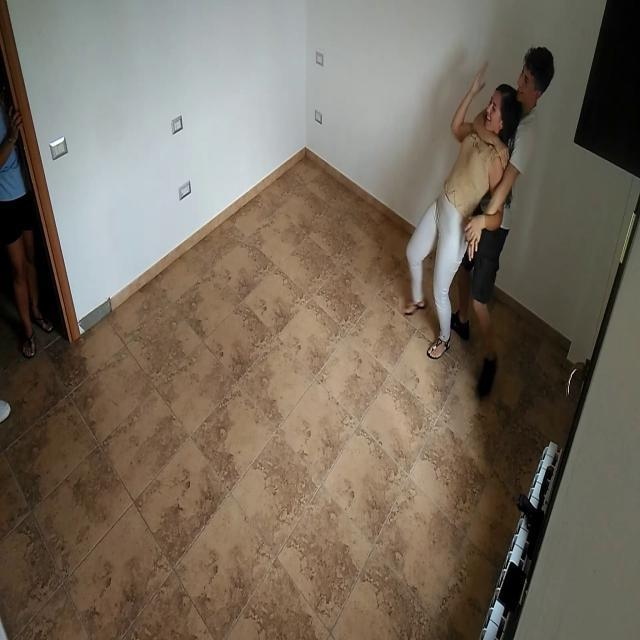non-violence: (0, 107, 62, 356)
violence: (406, 45, 554, 358)
